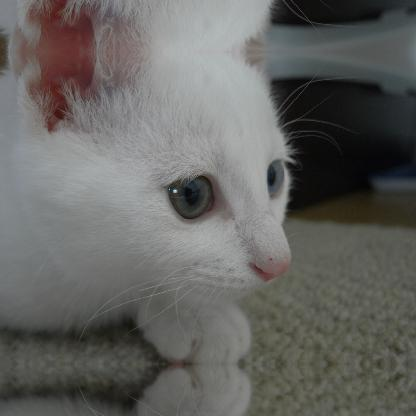Cat: (0, 51, 359, 363)
